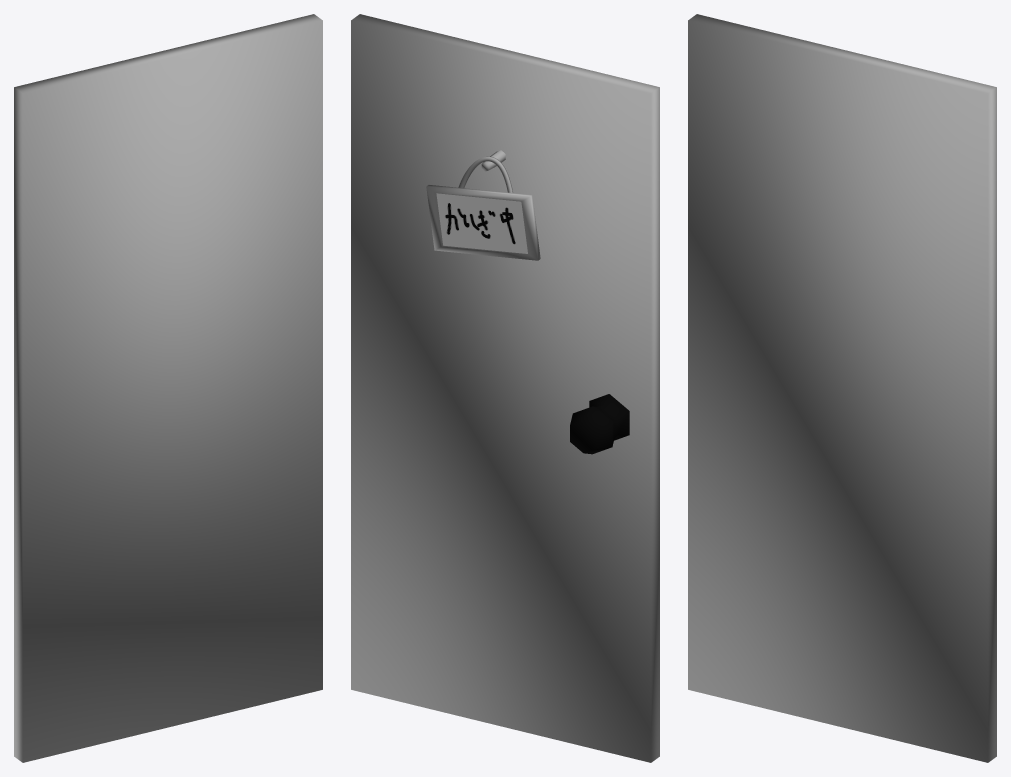
Rendered from kaigisitudoor.fbx.
The picture shows the model from 3 angles, left to right: view 1: azimuth 30°, elevation 25°; view 2: azimuth 150°, elevation 25°; view 3: azimuth 330°, elevation 25°; orthographic projection.
Parts seen in each view (by area): view 1: Plane.048; view 2: Plane.048; view 3: Plane.048.
Boxes of the visible parts, x1,y1,x2,y2 form: Plane.048: (14,14,322,762); Plane.048: (351,14,659,762); Plane.048: (688,14,996,762).
Bounding box in the file's own units: 2.47 × 5.26 × 0.4931.
Materials: 3 (1 with a texture image).
